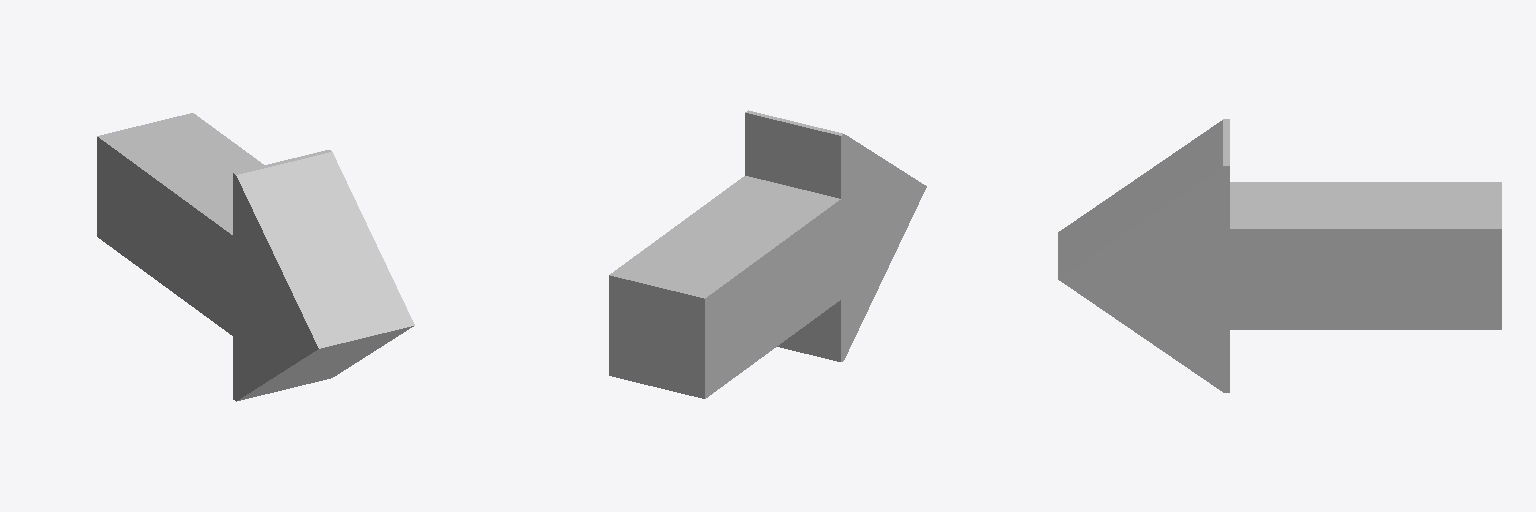
File: arrow.obj
3 renders of one model, left to right at view 1: azimuth 30°, elevation 25°; view 2: azimuth 150°, elevation 25°; view 3: azimuth 270°, elevation 25°, orthographic.
Parts seen in each view (by area): view 1: Cube; view 2: Cube; view 3: Cube.
Part boxes in pixels (left/top/right/bottom): Cube: left=97, top=113, right=414, bottom=401; Cube: left=609, top=110, right=926, bottom=398; Cube: left=1058, top=119, right=1501, bottom=392.
Bounding box in the file's own units: 2 × 4.5 × 8.